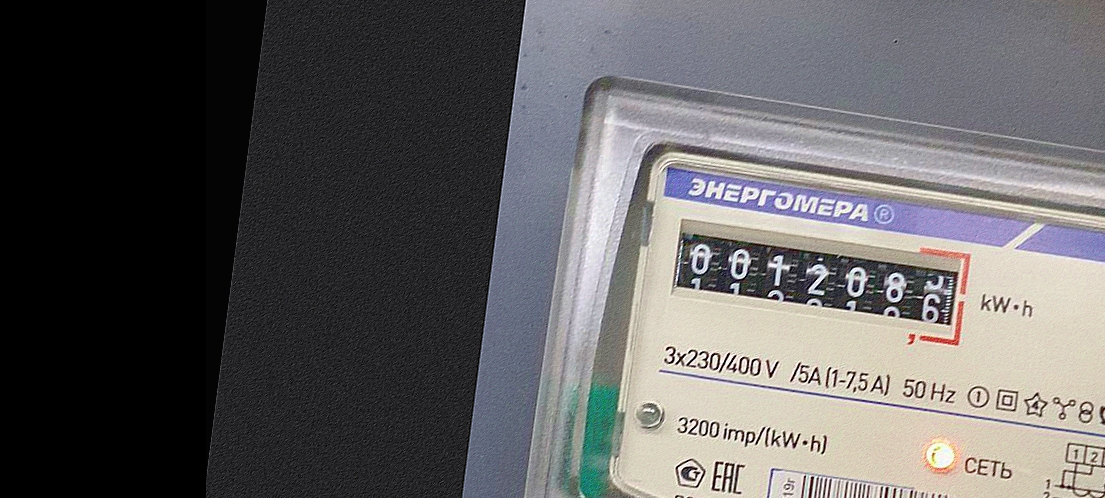0: (841, 263, 871, 301), (726, 244, 753, 284), (688, 240, 713, 279)
1: (766, 252, 788, 291)
2: (802, 261, 833, 299)
6: (917, 289, 944, 327)
8: (880, 269, 907, 308)
screen: (657, 207, 981, 363)
